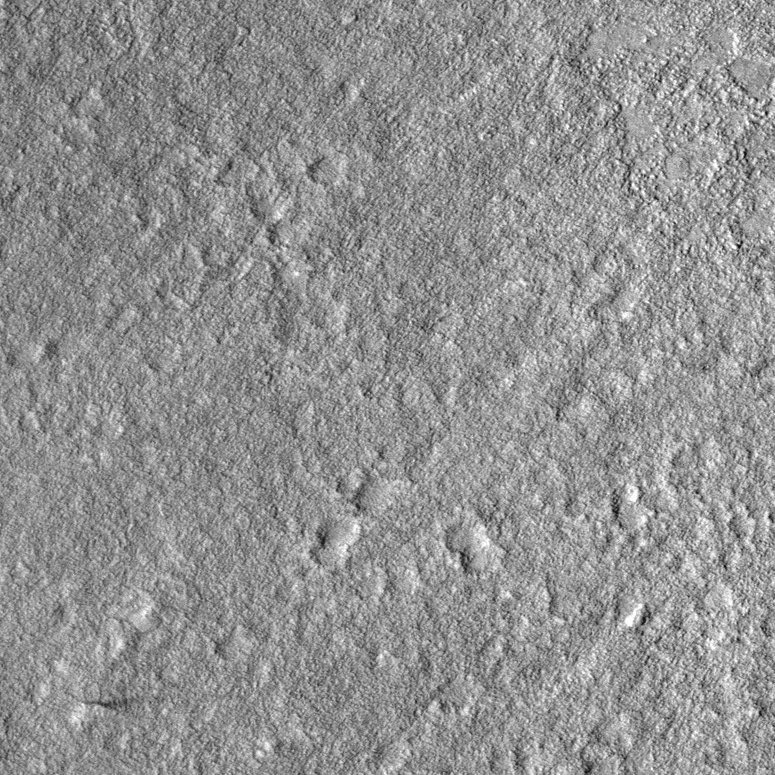dust_devil: (67, 697, 132, 726)
